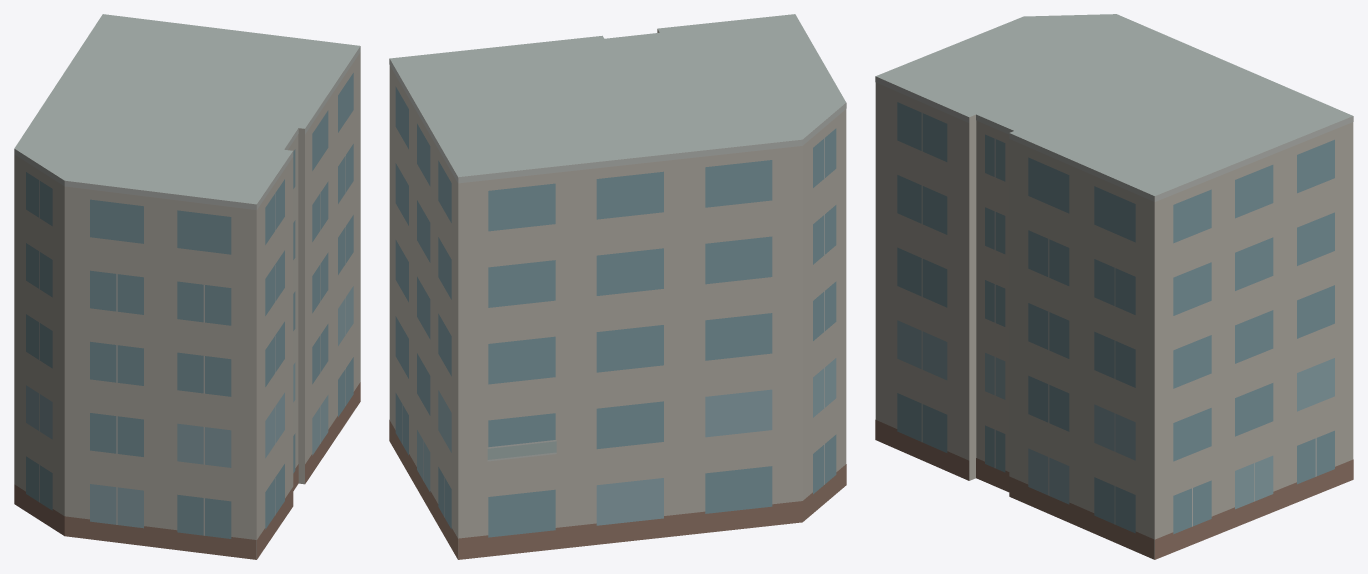
The model's file is survey-upis-32890375.glb.
3 views of the same model, side by side, from view 1: azimuth 30°, elevation 25°; view 2: azimuth 150°, elevation 25°; view 3: azimuth 270°, elevation 25° (orthographic). The views are drawn at different scales.
Visible parts, largest first — view 1: survey-upis-32890375.tmp; view 2: survey-upis-32890375.tmp; view 3: survey-upis-32890375.tmp.
Part boxes in pixels (left/top/right/bottom): survey-upis-32890375.tmp: left=14, top=14, right=360, bottom=559; survey-upis-32890375.tmp: left=389, top=14, right=846, bottom=559; survey-upis-32890375.tmp: left=875, top=14, right=1353, bottom=559.
Size of the model in its own units: 16.13 by 15 by 17.88.
